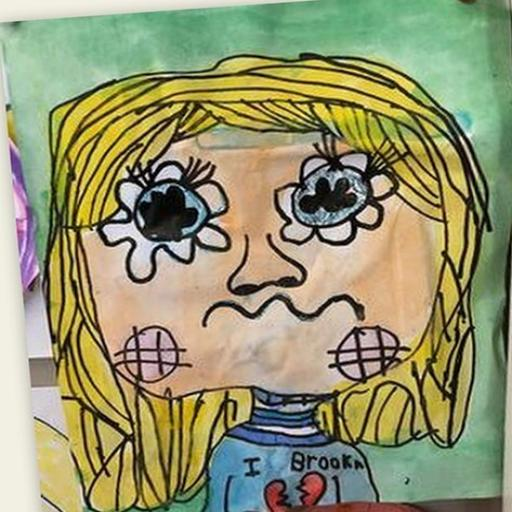person: (42, 50, 493, 512)
